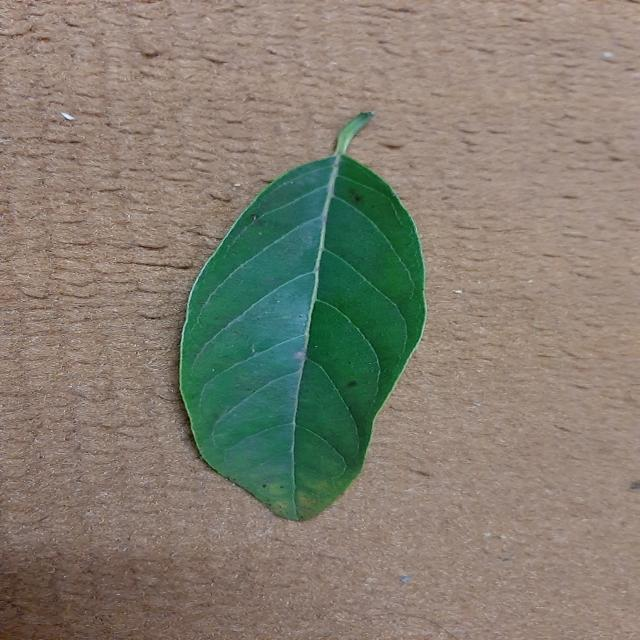seethaphala: (182, 112, 425, 520)
